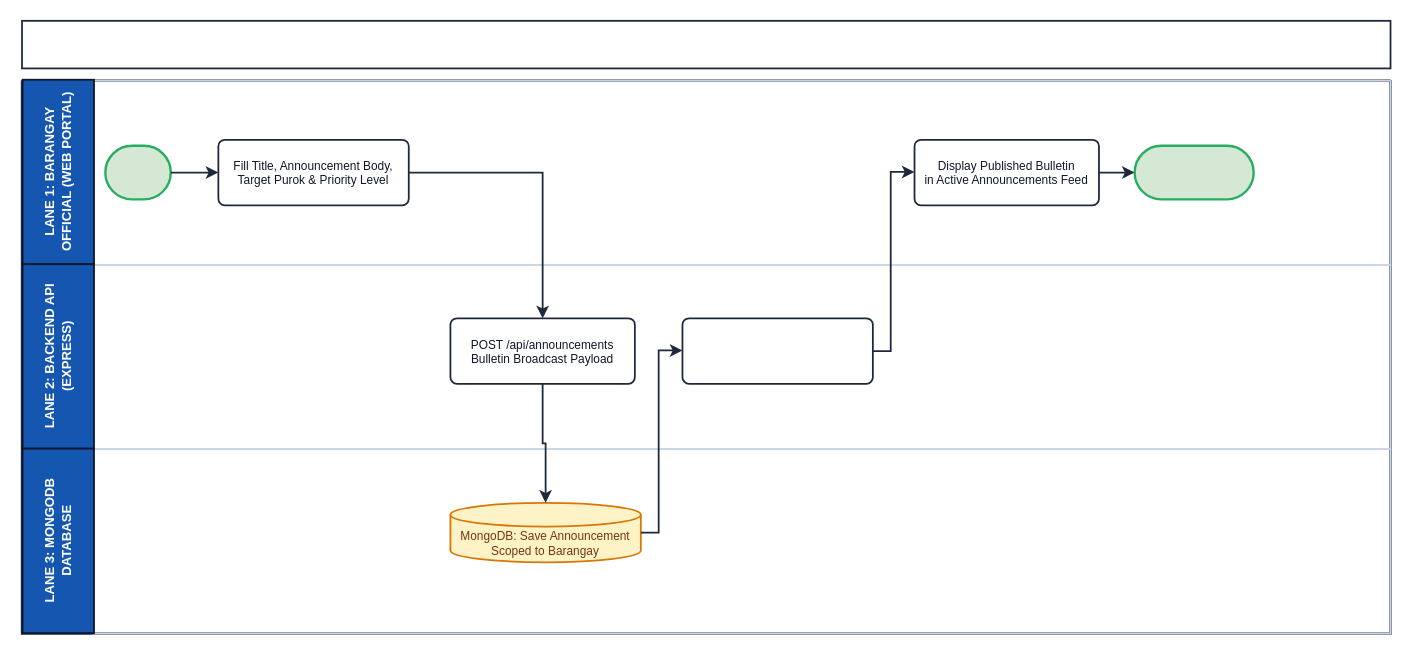
Some shapes in this 1411 by 656 pixel diagram are drawn without their labels. Here are the shapes that lost their labels. From the top down, the centre of each, then its label:
At [706,44]: "Process Flow [PF-BO05]: Manage Announcements Module (Linked Use Case: UC-BO05)".
At [137,172]: "START".
At [1193,172]: "END (Published)".
At [777,350]: "Socket.IO: Push Realtime Bulletin to Resident Mobile Apps".
